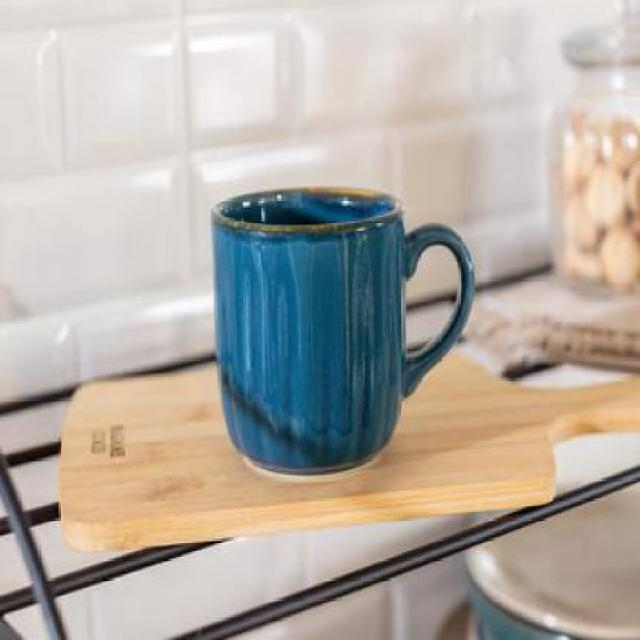taza: (210, 185, 478, 482)
